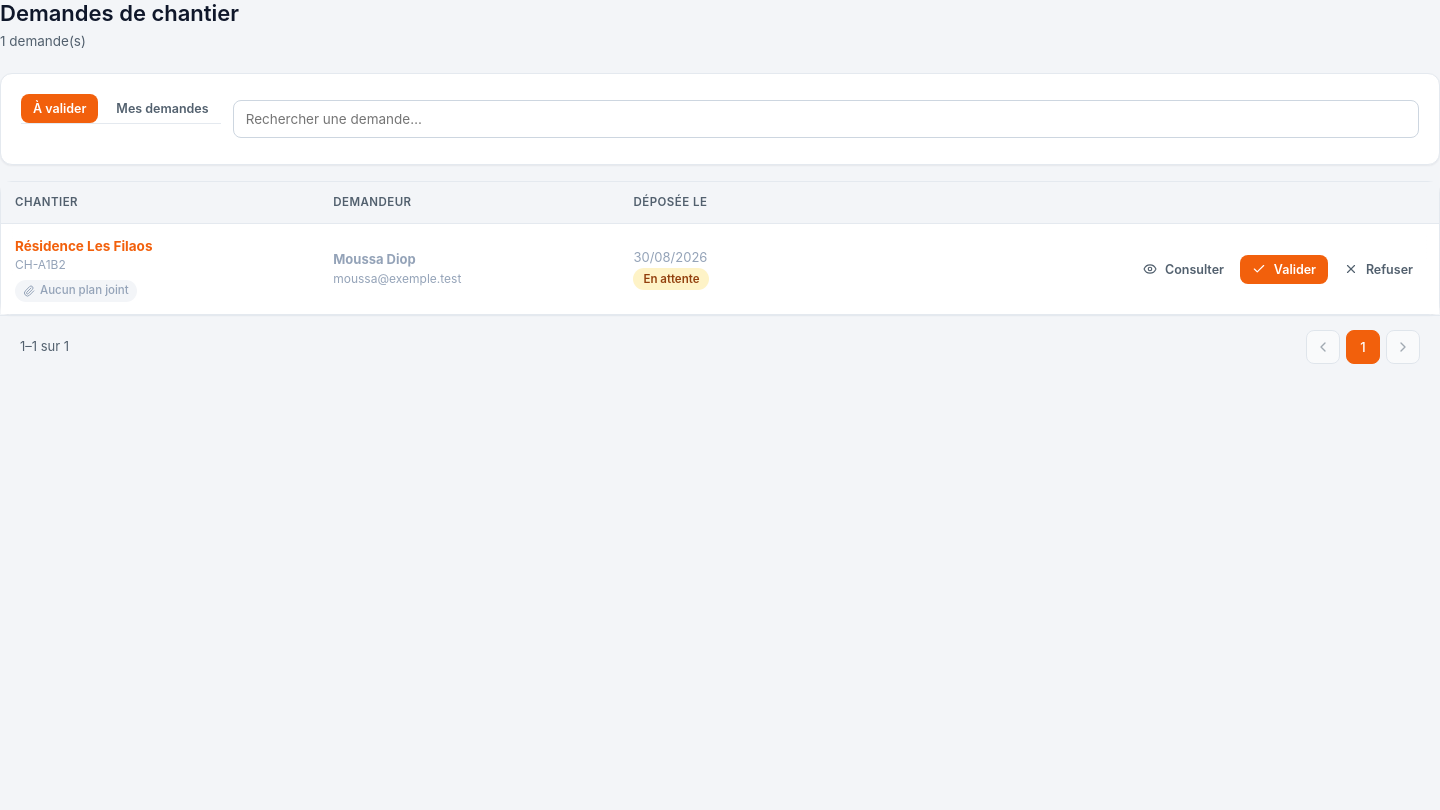
Test: DemandesChantier › refuse d’envoyer un motif trop court, sans appeler le serveur
Check: the text "Résidence Les Filaos" is shown, box [15,238,152,254]
Click the button "Refuser": click(1378, 269) [1332,255,1425,284]
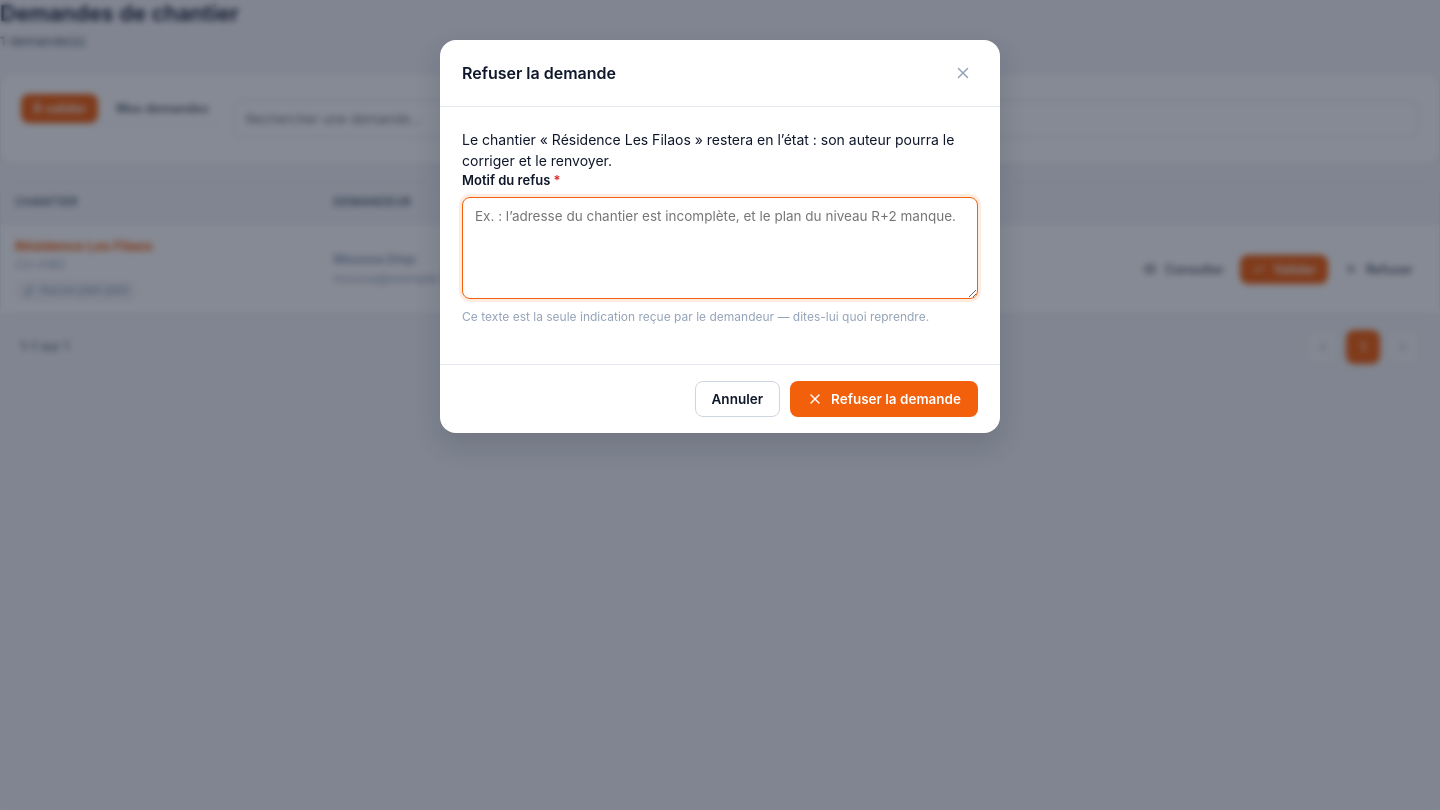
Replace the text in the text box labelled "Motif du refus *" with "trop": (720, 248) [462,196,978,298]
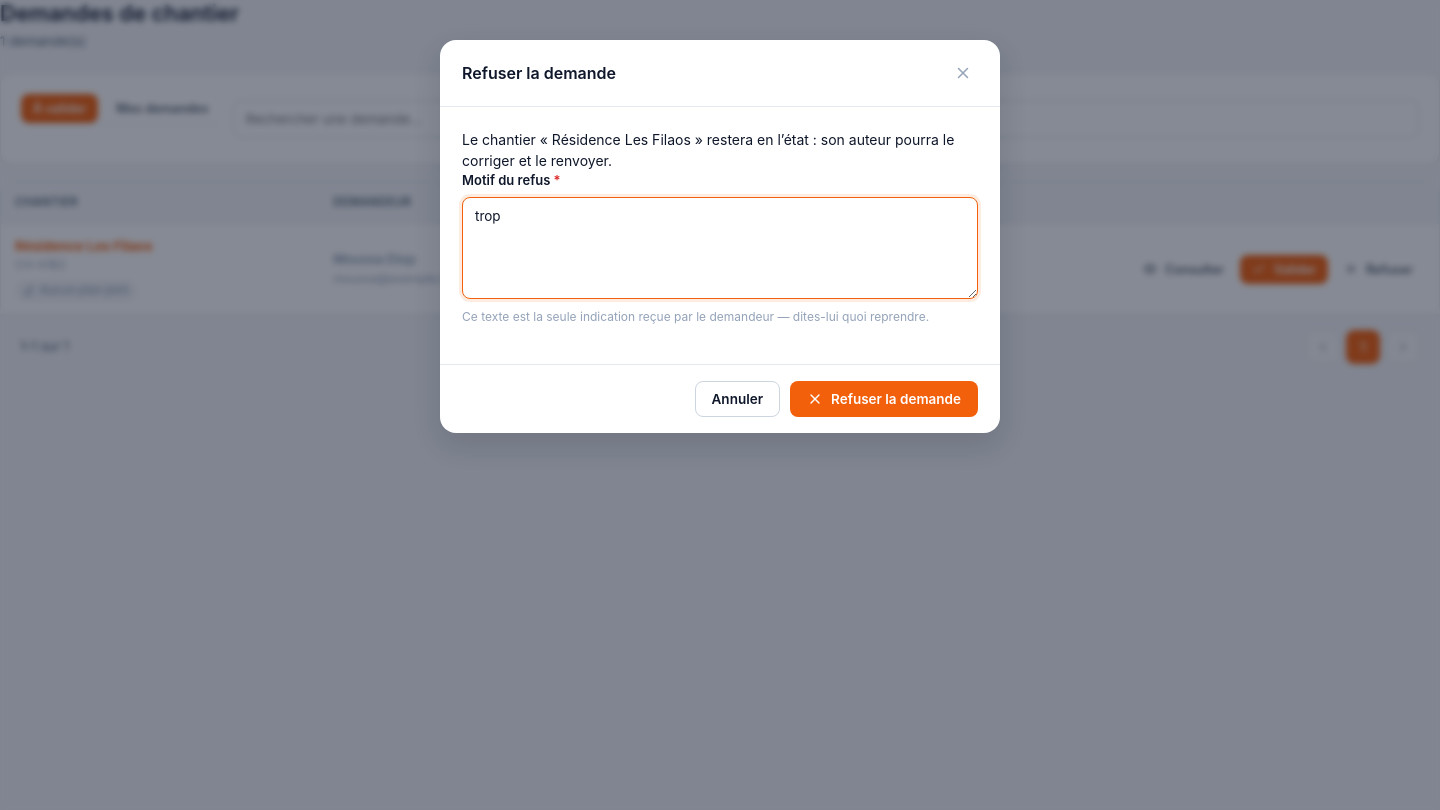
Click the button "Refuser la demande": click(884, 399) [790,380,978,417]
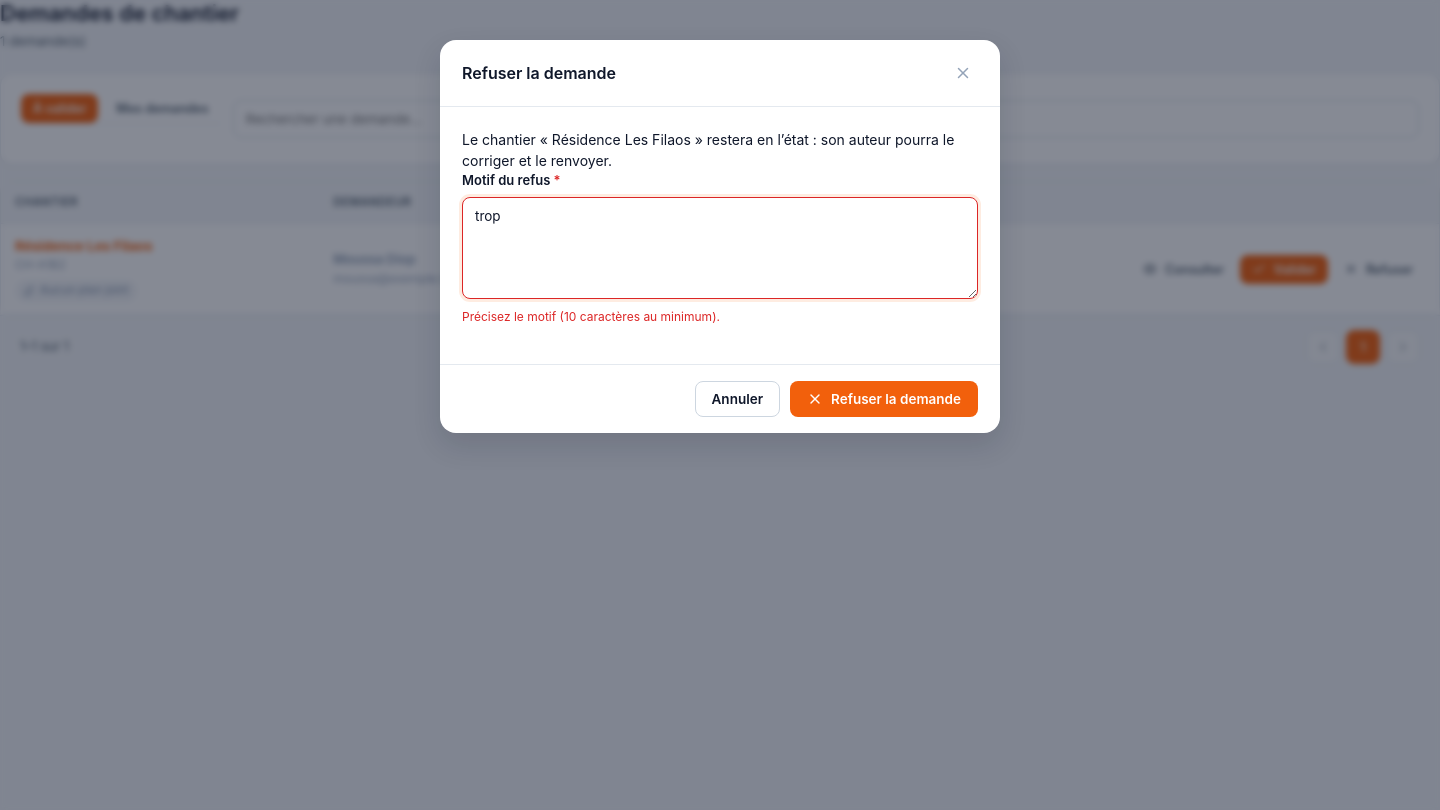
Check: the text "Précisez le motif (10 caractères au minimum)." is shown, box [462,308,720,324]
